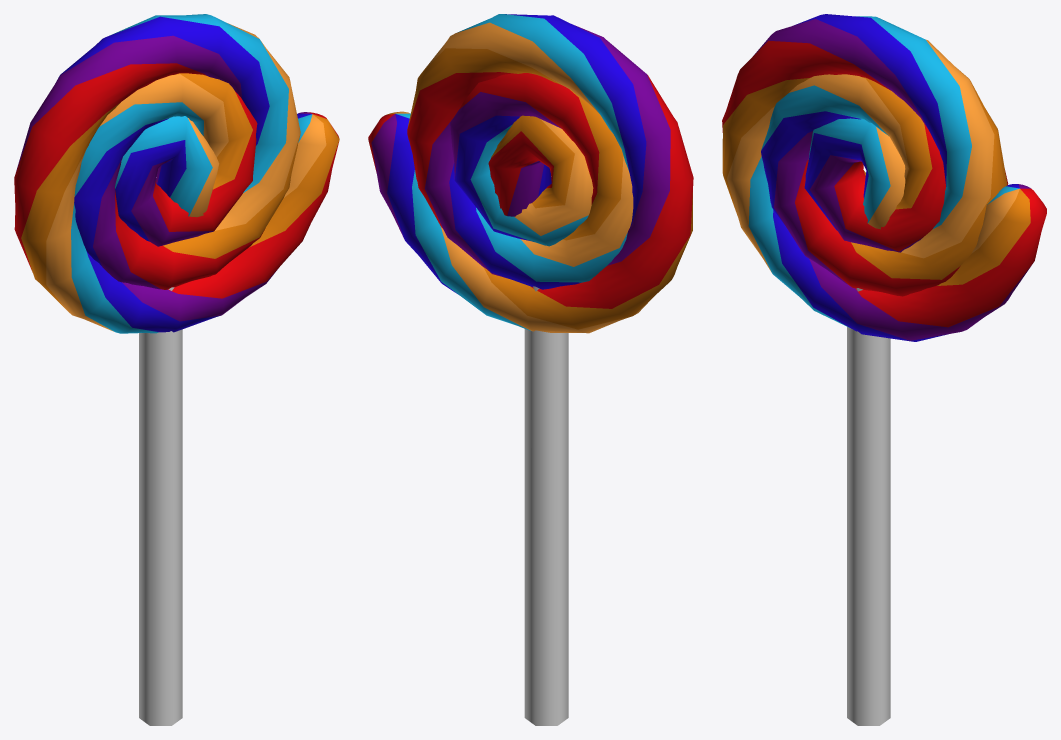
Rendered from Lollipop_01.fbx.
3 views of the same model, side by side, from view 1: azimuth 30°, elevation 25°; view 2: azimuth 150°, elevation 25°; view 3: azimuth 330°, elevation 25° (orthographic).
Parts seen in each view (by area): view 1: Lollipop_01; view 2: Lollipop_01; view 3: Lollipop_01.
Part boxes in pixels (box(x1,y1,x2,y2)): Lollipop_01: box(14, 14, 339, 725); Lollipop_01: box(368, 14, 693, 725); Lollipop_01: box(722, 14, 1046, 725).
Size of the model in its own units: 1.06 by 2.24 by 0.1813.
